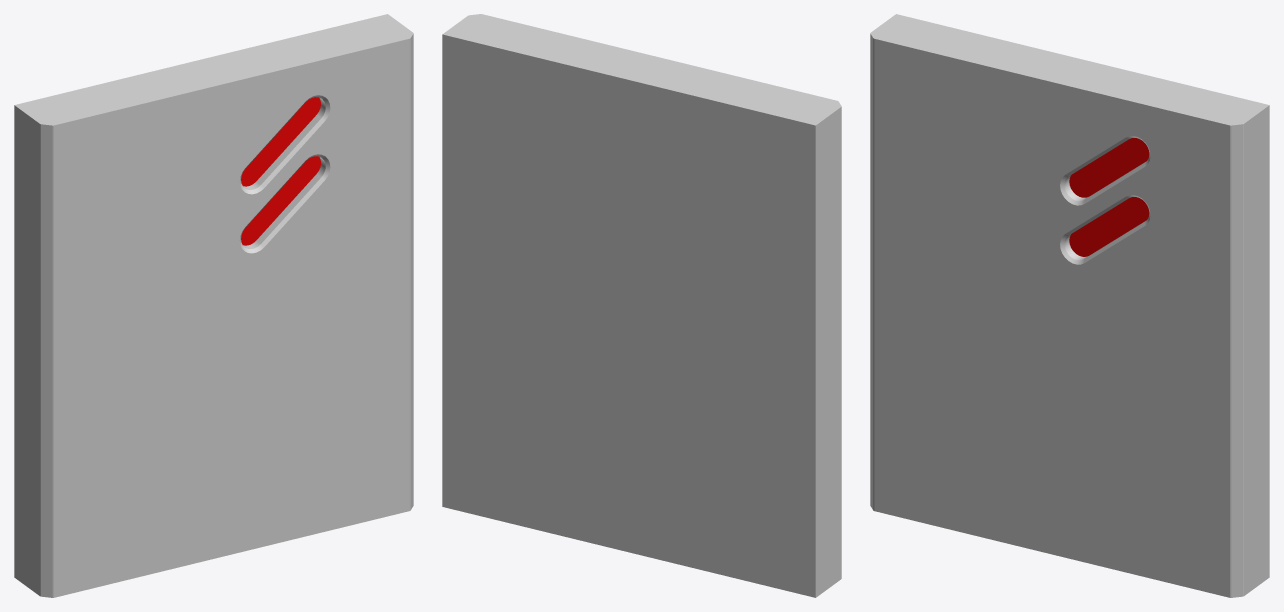
The model's file is wall_cut.obj.
3 renders of one model, left to right at view 1: azimuth 30°, elevation 25°; view 2: azimuth 150°, elevation 25°; view 3: azimuth 330°, elevation 25°, orthographic.
Visible parts, largest first — view 1: object1; view 2: object1; view 3: object1.
Part boxes in pixels (x1,y1,x2,y2): object1: (14,14,413,597); object1: (442,14,841,597); object1: (870,14,1269,597).
Bounding box in the file's own units: 45.5 × 55 × 6.5.
